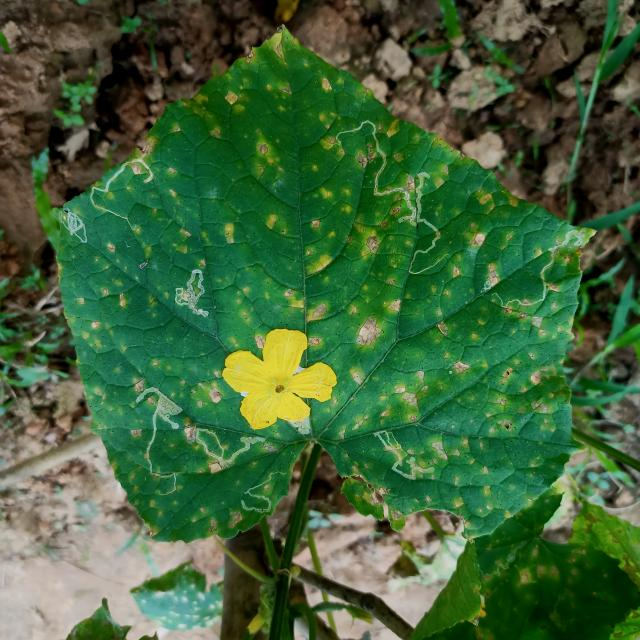disease_cucumber: (64, 76, 572, 522)
